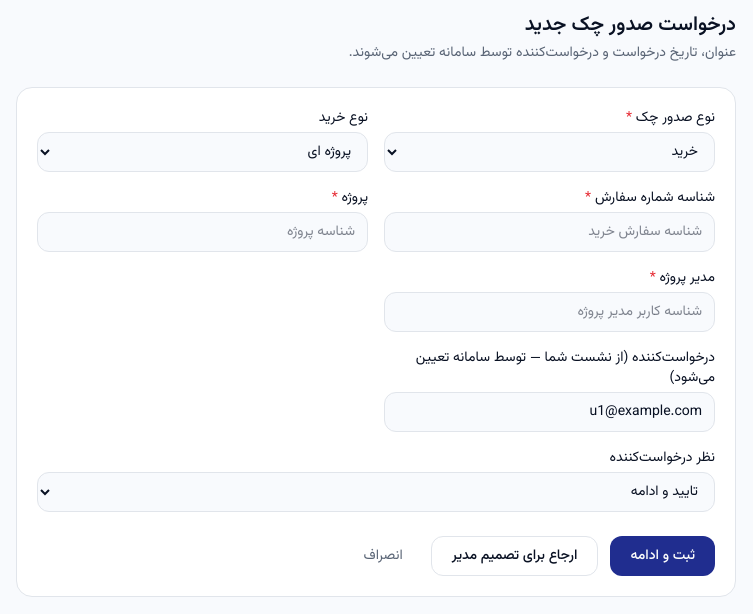
Test: Phase F1 — CheckRequestFormView (conditional fields, create, route) › HIDES for حقوق: purchase type, order reference and the project pair
Select "حقوق" in the dropdown with test id "financial-check-issue-type": (550, 152) [384,132,715,172]
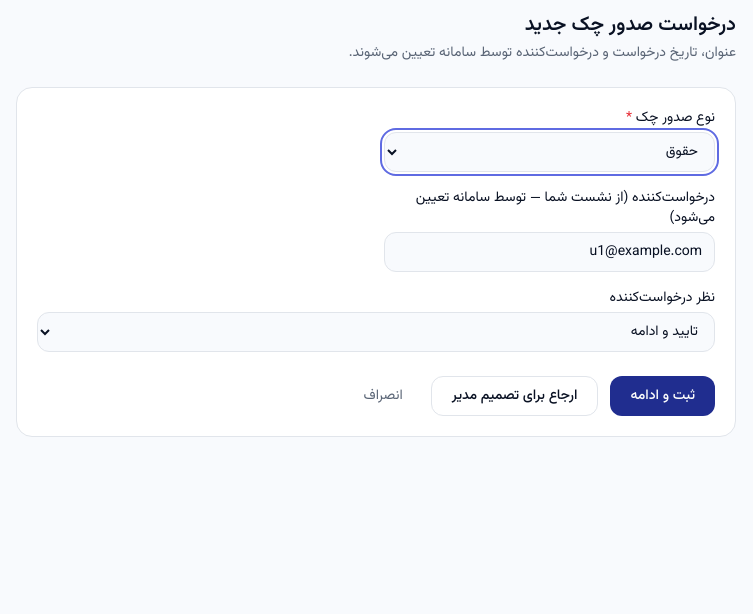
Now the dropdown with test id "financial-check-purchase-type" is gone
Now the field with test id "financial-check-order-reference" is gone
Now the field with test id "financial-check-project-reference" is gone
